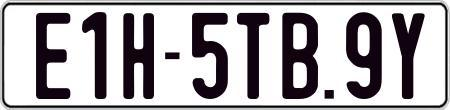1: (79, 12, 109, 99)
5: (190, 10, 230, 97)
9: (346, 9, 387, 99)
B: (281, 12, 320, 102)
E: (34, 10, 73, 96)
H: (121, 13, 155, 100)
T: (234, 10, 270, 100)
Y: (389, 12, 424, 100)
